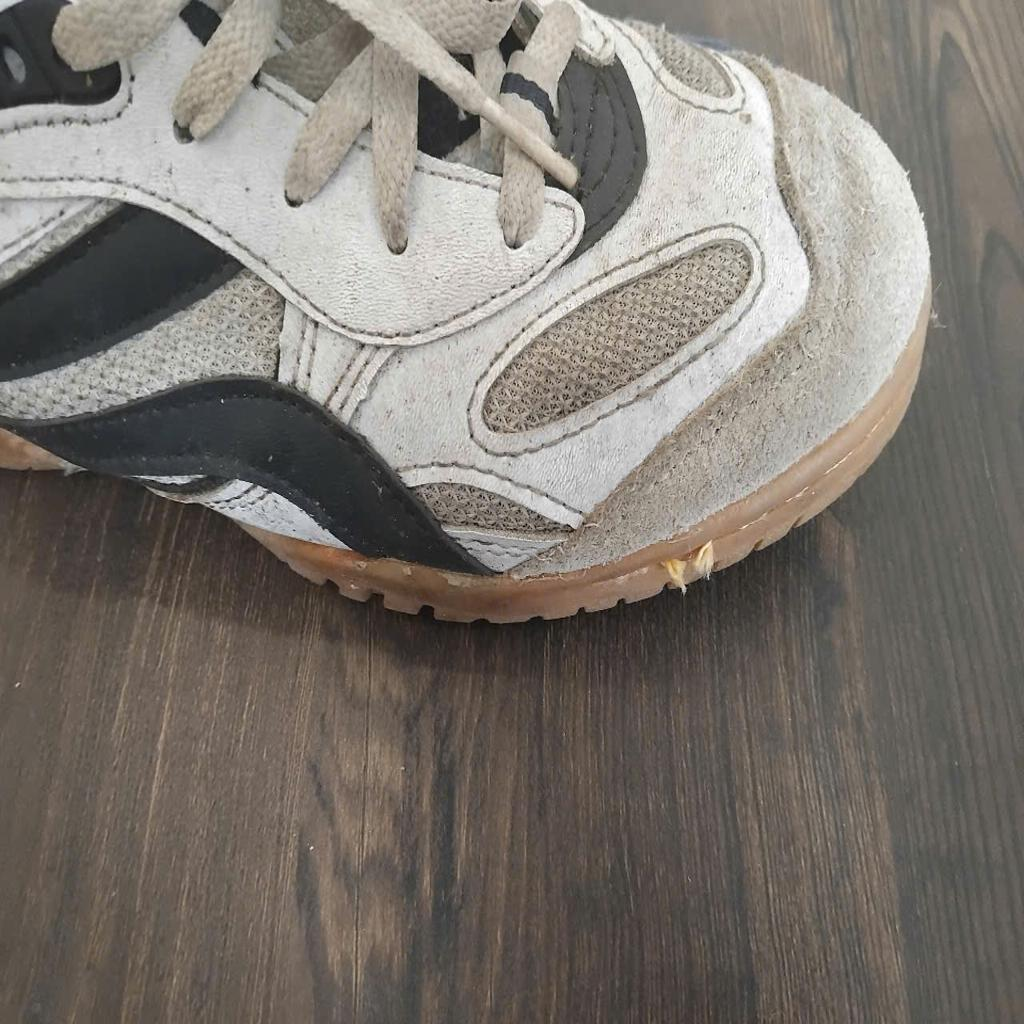broken: (663, 541, 725, 592)
